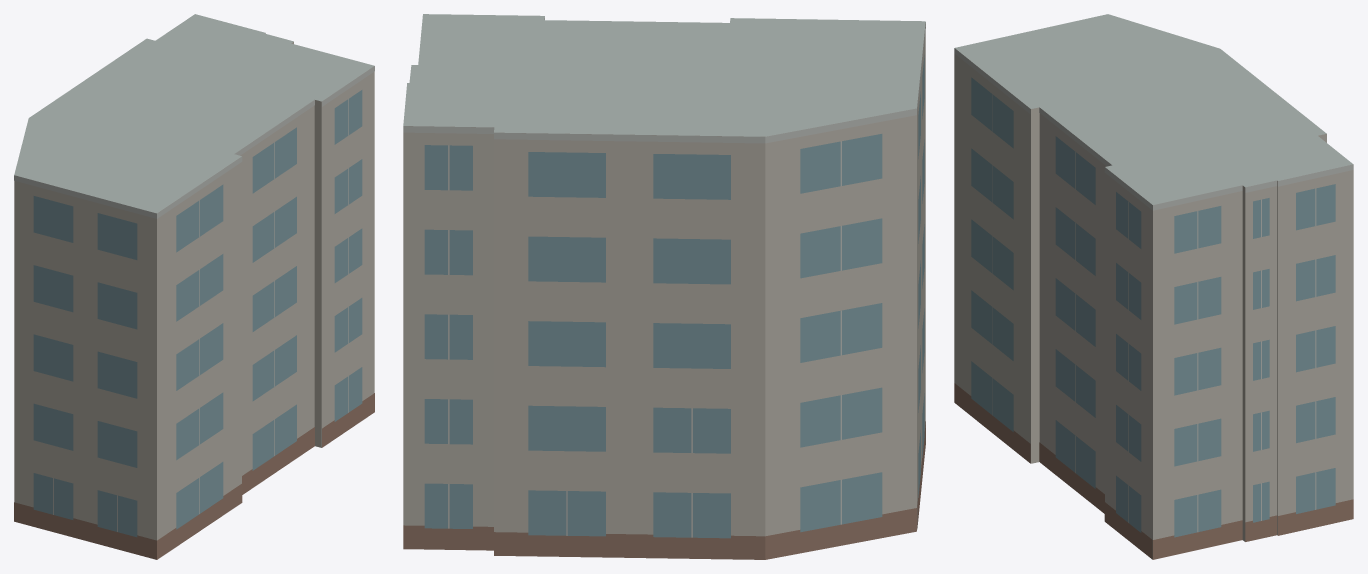
Rendered from survey-upis-32714901.glb.
The picture shows the model from 3 angles, left to right: view 1: azimuth 30°, elevation 25°; view 2: azimuth 150°, elevation 25°; view 3: azimuth 270°, elevation 25°; orthographic projection. The views are drawn at different scales.
Parts seen in each view (by area): view 1: survey-upis-32714901.tmp; view 2: survey-upis-32714901.tmp; view 3: survey-upis-32714901.tmp.
Boxes of the visible parts, bbox=[...] form: survey-upis-32714901.tmp: bbox=[14, 14, 374, 559]; survey-upis-32714901.tmp: bbox=[403, 14, 925, 559]; survey-upis-32714901.tmp: bbox=[954, 14, 1353, 559].
Size of the model in its own units: 17.87 by 15.45 by 15.76.
